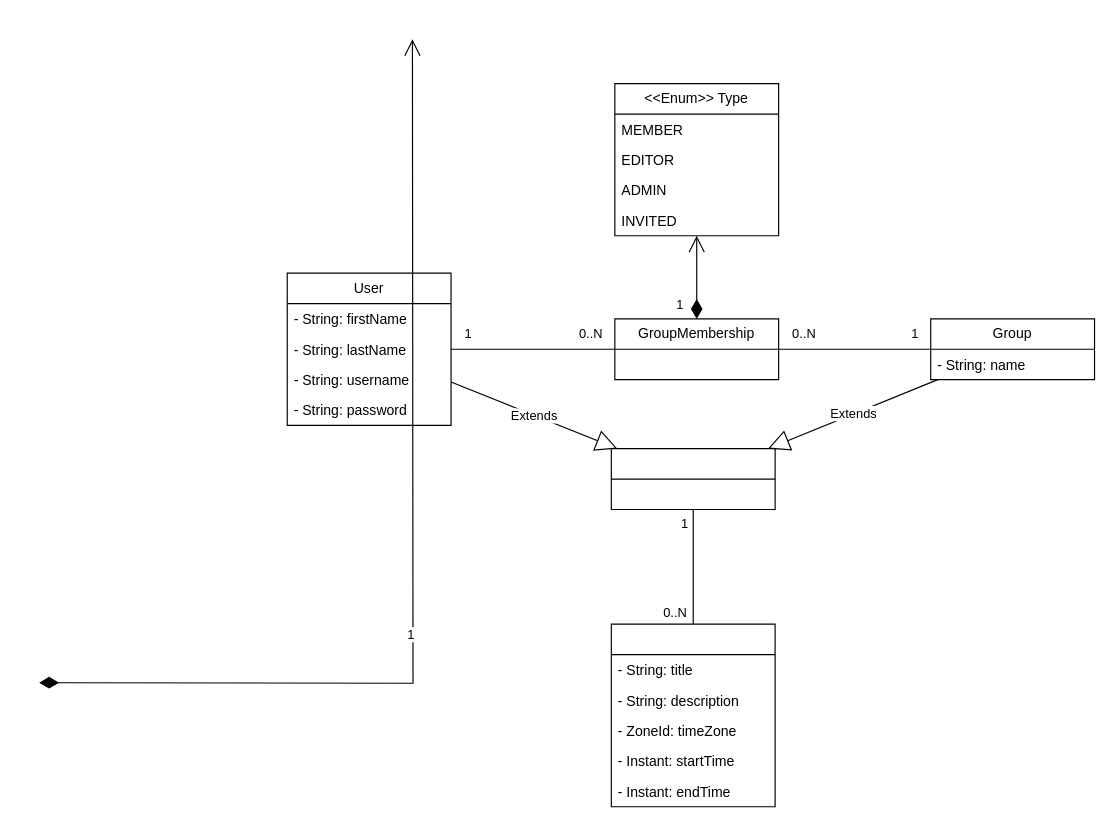
This 1115x831 diagram has some shape labels left out. Each missing label, with the box of its shape:
Event: (610, 623, 775, 807)
EventOwner: (610, 448, 775, 510)
